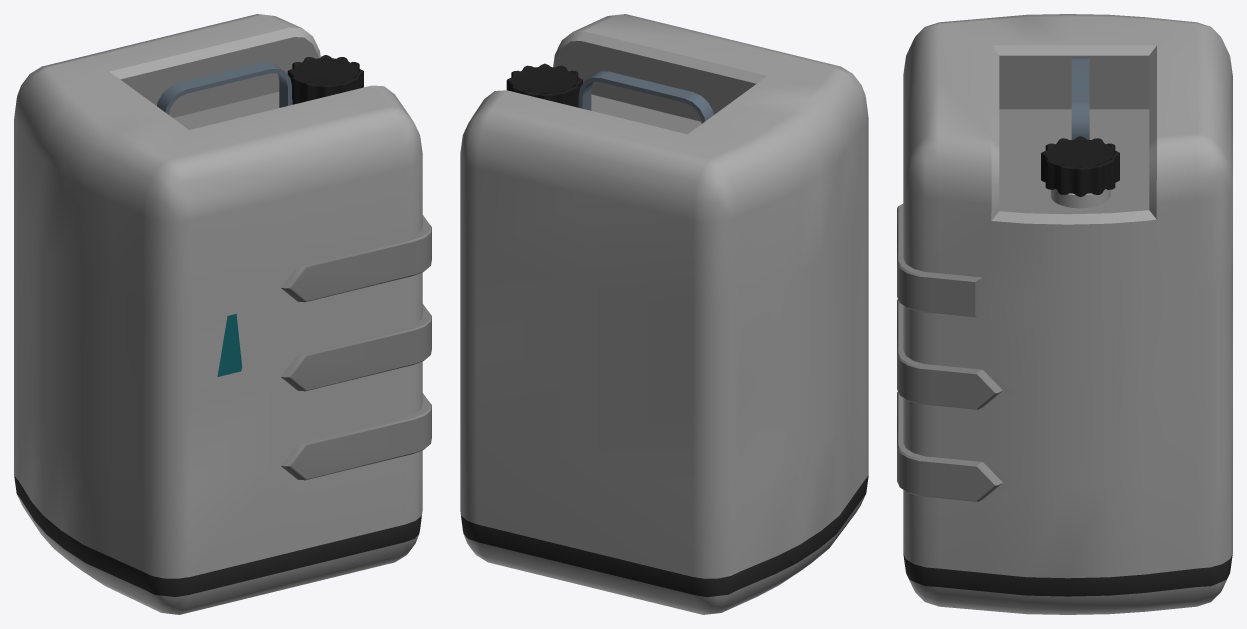
The model's file is SM_ConTPlast_A_D.fbx.
3 renders of one model, left to right at view 1: azimuth 30°, elevation 25°; view 2: azimuth 150°, elevation 25°; view 3: azimuth 270°, elevation 25°, orthographic. The views are drawn at different scales.
Visible parts, largest first — view 1: SM_ConTPlast_A_D; view 2: SM_ConTPlast_A_D; view 3: SM_ConTPlast_A_D.
Part boxes in pixels (box(x1,y1,x2,y2)): SM_ConTPlast_A_D: box(14, 14, 431, 614); SM_ConTPlast_A_D: box(460, 14, 868, 614); SM_ConTPlast_A_D: box(897, 14, 1232, 614).
Bounding box in the file's own units: 44.43 × 62.06 × 39.74.
